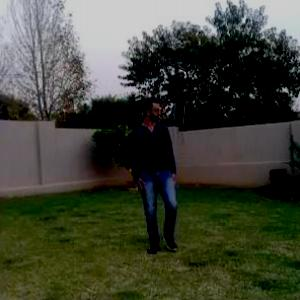follow: (131, 85, 180, 255)
